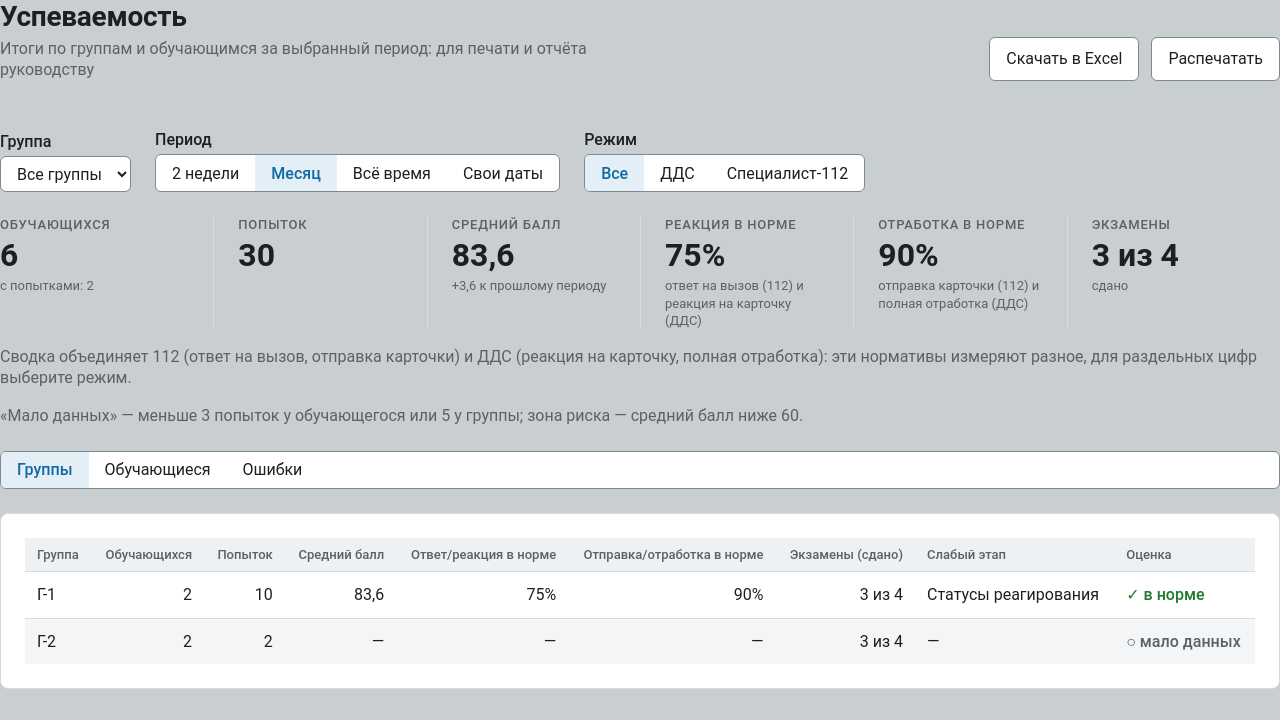
страница «Успеваемость» › обучающиеся: ФИО и зона риска словом; без группы — «Без группы»
The image size is (1280, 720).
Expected: the table named "Сравнение групп" is shown, [25,538,1255,664]
Click the button "Обучающиеся". click: (158, 470)
box: [88,452,226,488]
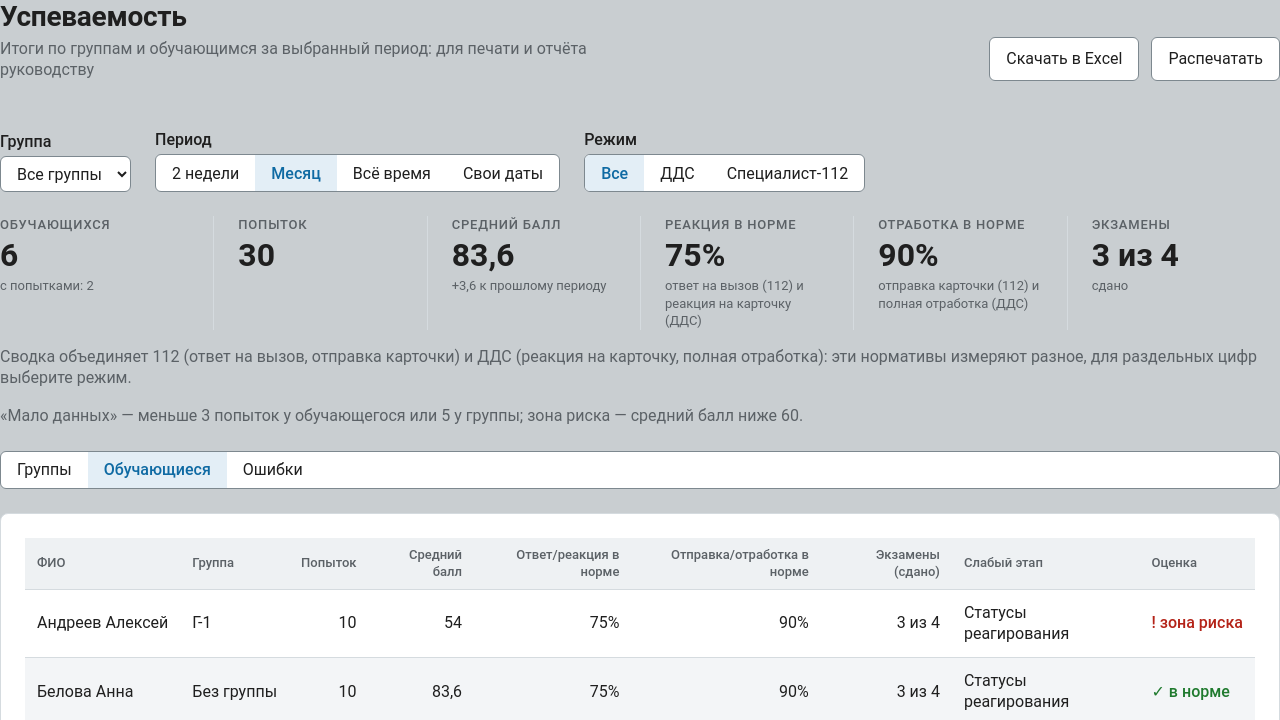
Expected: the text "Андреев Алексей" is shown, [37,613,168,632]
Expected: the text "! зона риска" is shown, [1151,613,1243,632]
Expected: the text "Без группы" is shown, [192,682,277,701]
